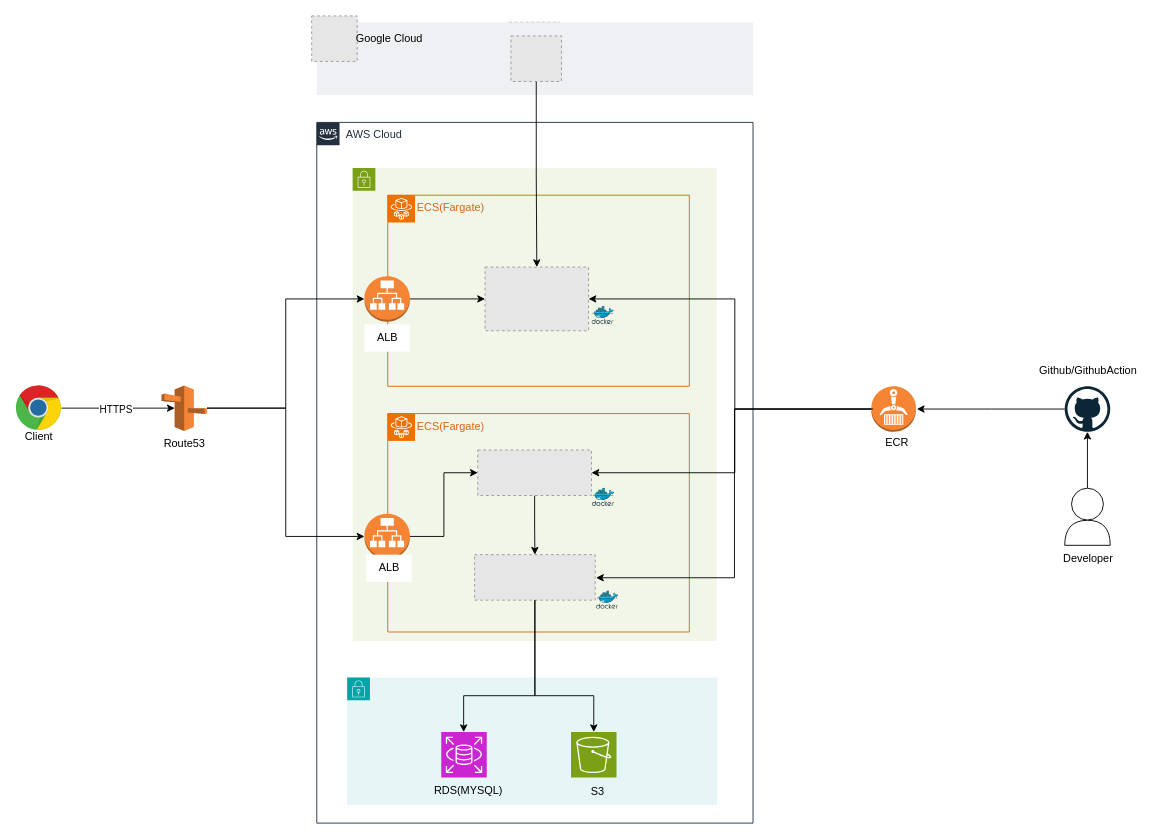
The diagram is 1162 pixels wide and 839 high, and some of its shapes have lost their labels. Grey dashed boxes stand in for pictures. Each missing label, with the box of its shape:
Private subnet: (346, 677, 717, 805)
Public subnet: (352, 167, 717, 641)
